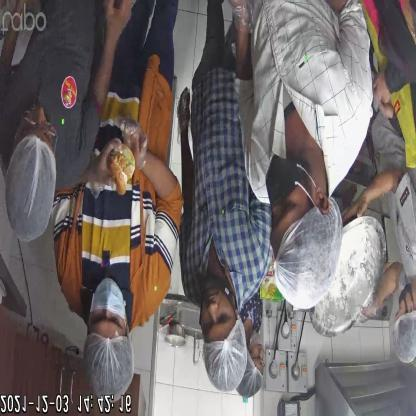no_apron: (64, 66, 174, 328), (247, 0, 375, 212), (182, 66, 278, 307), (2, 0, 104, 189)
